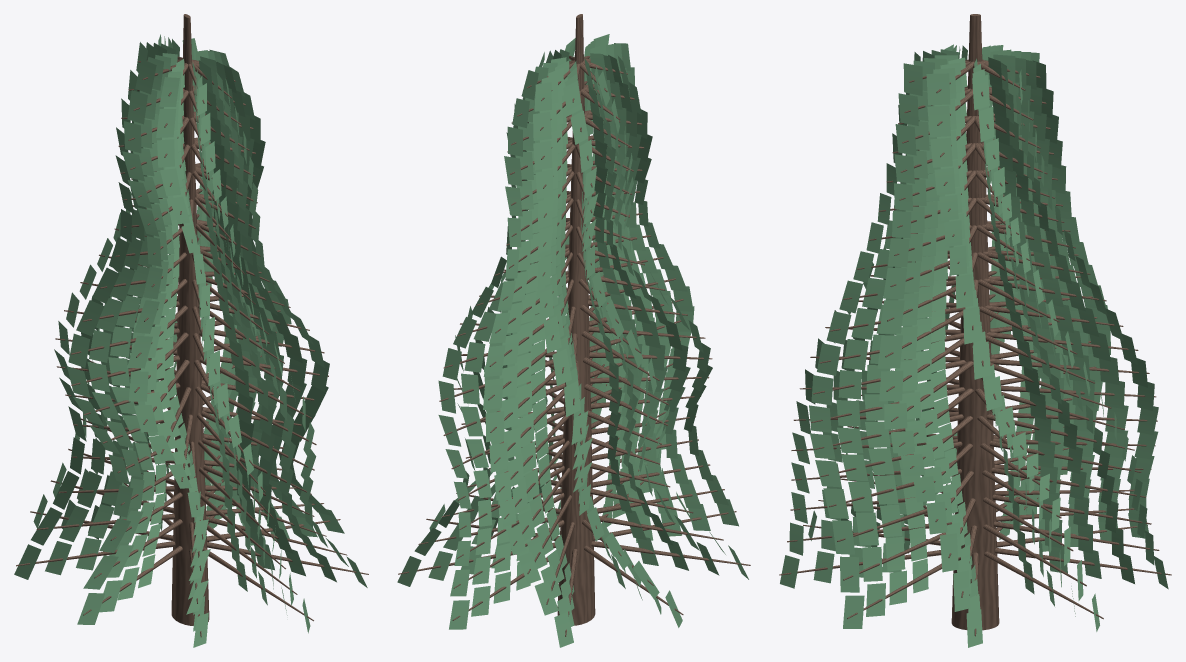
Rendered from tree_fir02.glb.
3 renders of one model, left to right at view 1: azimuth 30°, elevation 25°; view 2: azimuth 150°, elevation 25°; view 3: azimuth 270°, elevation 25°, orthographic.
Visible parts, largest first — view 1: needles, branches, trunk; view 2: needles, branches, trunk; view 3: needles, branches, trunk.
Boxes of the visible parts, x1,y1,x2,y2 form: needles: [14, 34, 367, 647]; branches: [16, 56, 368, 637]; trunk: [171, 14, 209, 625]; needles: [397, 34, 748, 647]; branches: [398, 55, 750, 636]; trunk: [557, 14, 595, 625]; needles: [780, 44, 1168, 647]; branches: [779, 59, 1171, 636]; trunk: [951, 14, 999, 630].
Bounding box in the file's own units: 4.19 × 8.18 × 4.79.
2 materials, 2 textured.
